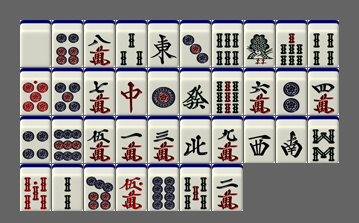0m: (116, 164, 147, 211)
0p: (20, 68, 51, 115)
0s: (20, 164, 51, 211)
1m: (116, 116, 147, 163)
1p: (148, 68, 179, 115)
1s: (244, 20, 275, 67)
1z: (148, 20, 179, 67)
2m: (212, 164, 243, 211)
2p: (276, 68, 307, 115)
2s: (52, 164, 83, 211)
2z: (276, 116, 307, 163)
3m: (148, 116, 179, 163)
3p: (180, 20, 211, 67)
3s: (116, 20, 147, 67)
3z: (244, 116, 275, 163)
4m: (308, 68, 339, 115)
4p: (20, 116, 51, 163)
4s: (308, 20, 339, 67)
4z: (180, 116, 211, 163)
5m: (84, 116, 115, 163)
5p: (52, 68, 83, 115)
5s: (180, 164, 211, 211)
5z: (20, 20, 51, 67)
6m: (244, 68, 275, 115)
6p: (52, 20, 83, 67)
6s: (212, 20, 243, 67)
6z: (180, 68, 211, 115)
7m: (84, 68, 115, 115)
7p: (84, 164, 115, 211)
7s: (276, 20, 307, 67)
7z: (116, 68, 147, 115)
8m: (84, 20, 115, 67)
8p: (148, 164, 179, 211)
8s: (308, 116, 339, 163)
9m: (212, 116, 243, 163)
9p: (52, 116, 83, 163)
9s: (212, 68, 243, 115)
